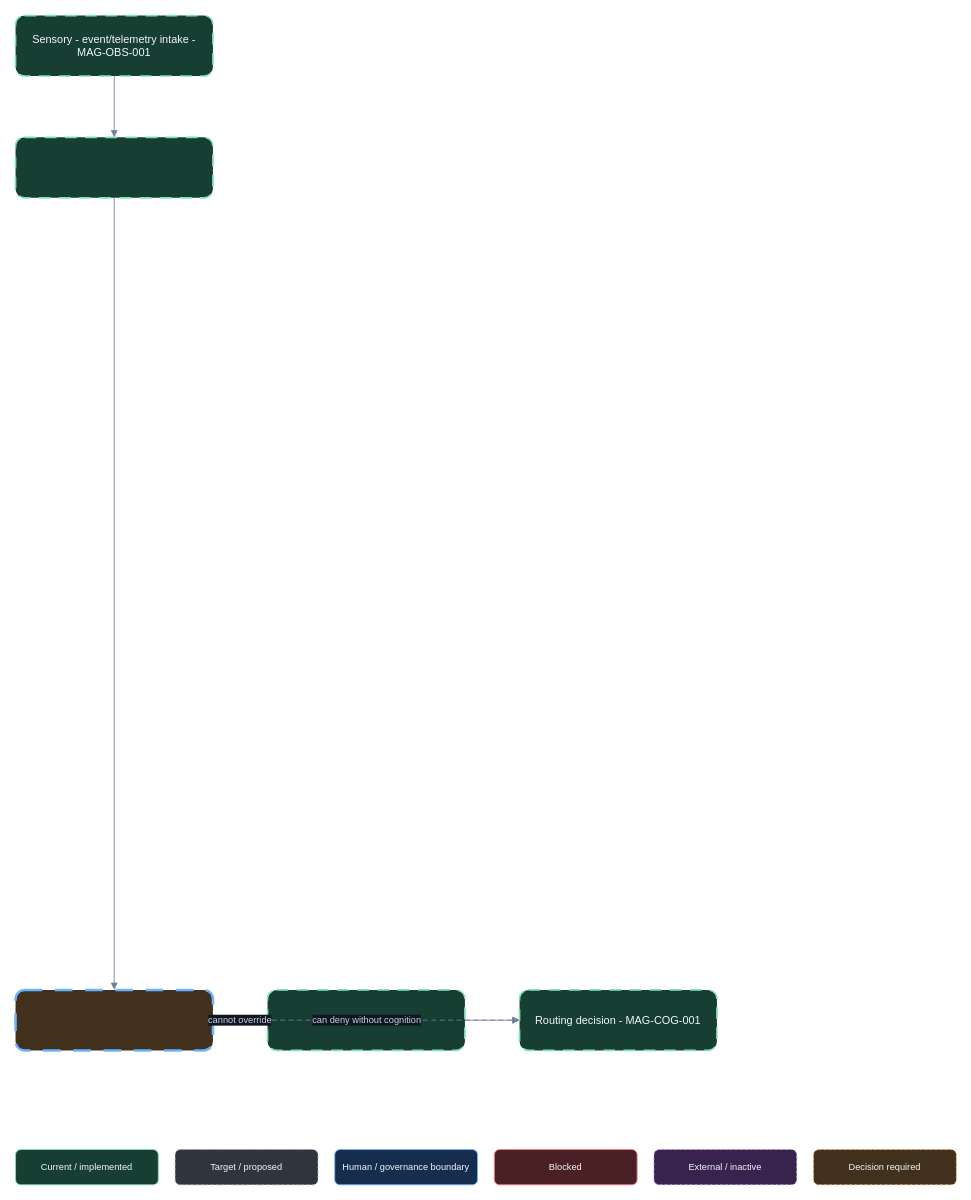
The diagram is 971 pixels wide and 1200 high, and some of its shapes have lost their labels. Here are the shapes that lost their labels. From the top down, the box of each, then its label:
(14, 136, 213, 198): Attention - prioritize signals - MAG-COG-001
(14, 988, 214, 1051): Reflex - deterministic guardrails default-deny - MAG-GOV-001
(266, 989, 465, 1051): Cognition - bounded routing - MAG-COG-001
